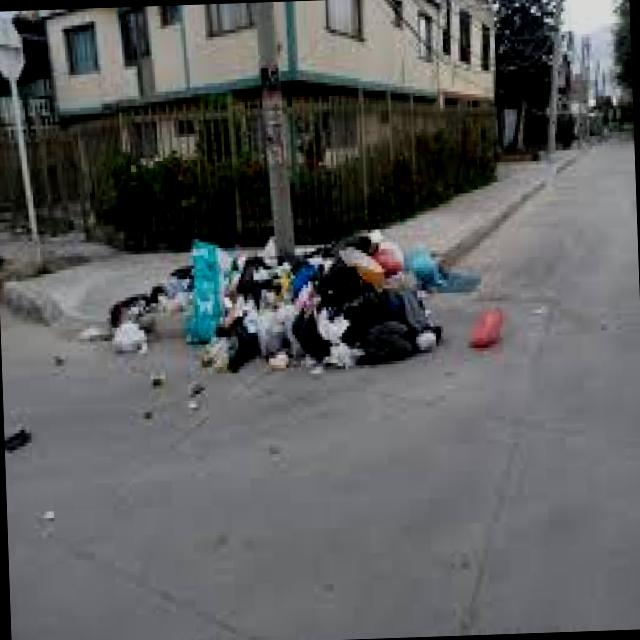garbage: (84, 191, 469, 373)
